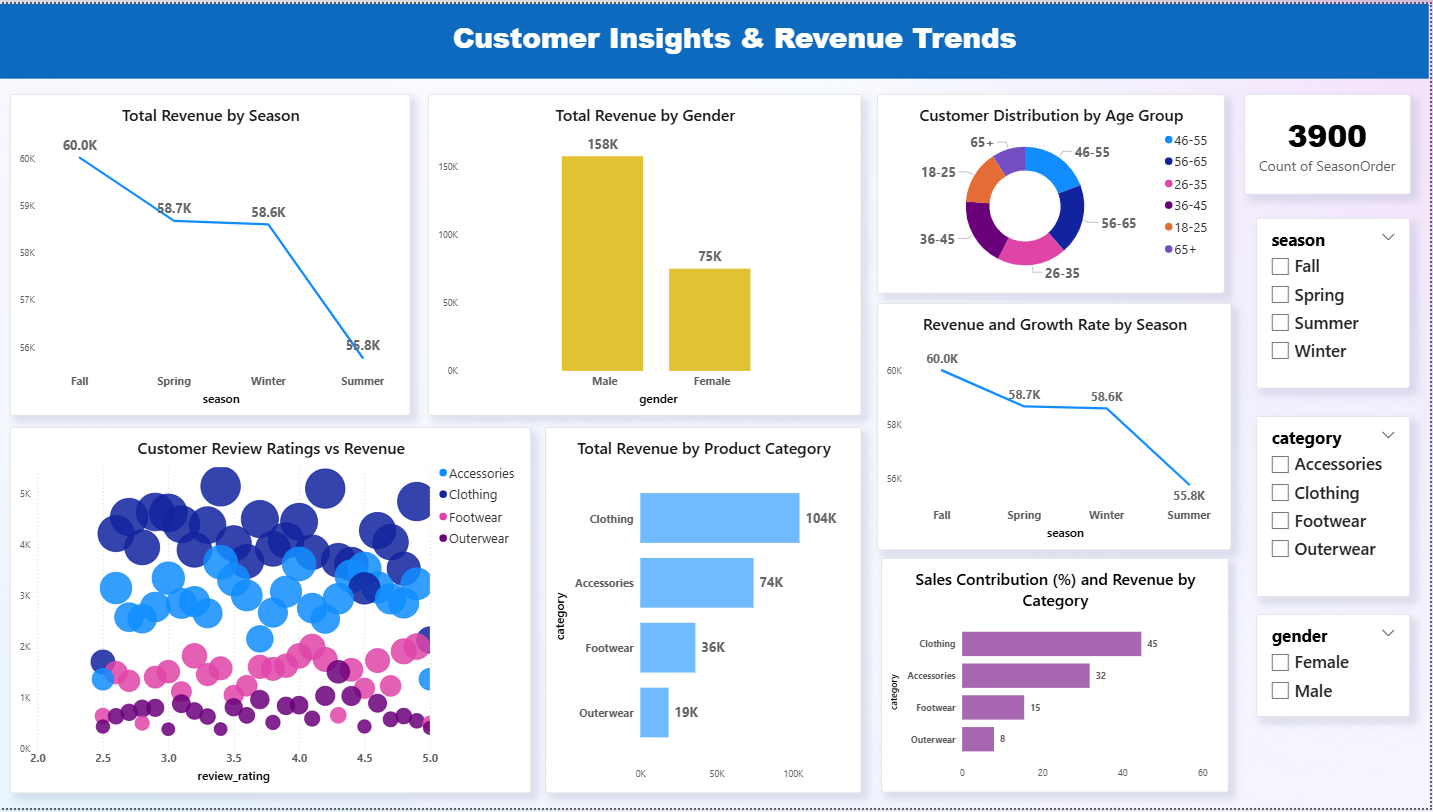

What the dashboard file says about the page in this screenshot:
{"tool":"powerbi","page":{"name":"customer sales & trends","canvas":[1920,1080],"ordinal":1},"visuals":[{"type":"lineChart","title":"Total Revenue by Season","fields":{"Category":["public shopping_data.season"],"Y":["Sum(public shopping_data.purchase_amount_usd)"]},"box":[13.9,120.8,537.5,431.9],"z":0},{"type":"donutChart","title":"Customer Distribution by Age Group","fields":{"Category":["public shopping_data.Age group"],"Y":["CountNonNull(public shopping_data.customer_id)"]},"box":[1177.8,120.8,466.7,268.1],"z":1},{"type":"clusteredColumnChart","title":"Total Revenue by Gender","fields":{"Category":["public shopping_data.gender"],"Y":["Sum(public shopping_data.purchase_amount_usd)"]},"box":[575,120.8,581.9,431.9],"z":2},{"type":"clusteredBarChart","title":"Total Revenue by Product Category","fields":{"Category":["public shopping_data.category"],"Y":["Sum(public shopping_data.purchase_amount_usd)"]},"box":[731.9,568.1,425,491.7],"z":3},{"type":"scatterChart","title":"Customer Review Ratings vs Revenue","fields":{"X":["public shopping_data.review_rating"],"Y":["Sum(public shopping_data.purchase_amount_usd)"],"Series":["public shopping_data.category"],"Size":["Sum(public shopping_data.purchase_amount_usd)"]},"box":[13.9,568.1,700,491.7],"z":4},{"type":"shape","box":[0,0,1919.4,100],"z":5},{"type":"textbox","box":[602.8,13.9,787.5,80.6],"z":6},{"type":"lineChart","title":"Revenue and Growth Rate by Season","fields":{"Category":["public shopping_data.season"],"Y":["Sum(public shopping_data.purchase_amount_usd)"]},"box":[1177.8,401.4,476.4,331.9],"z":8},{"type":"barChart","title":"Sales Contribution (%) and Revenue by Category","fields":{"Category":["public shopping_data.category"],"Y":["public shopping_data.Sales % Contribution"]},"box":[1183.3,744.4,466.7,315.3],"z":9},{"type":"card","fields":{"Values":["CountNonNull(public shopping_data.SeasonOrder)"]},"box":[1670.8,120.8,223.6,134.7],"z":10},{"type":"slicer","fields":{"Values":["public shopping_data.season"]},"box":[1687.5,287.5,206.9,229.2],"z":11},{"type":"slicer","fields":{"Values":["public shopping_data.category"]},"box":[1687.5,552.8,206.9,243.1],"z":12},{"type":"slicer","fields":{"Values":["public shopping_data.gender"]},"box":[1687.5,819.4,206.9,137.5],"z":13}]}

Visuals, with their boxes in screenshot pixels (x1, y1, x2, y2), scaled from the page's 1920x1080 canvas onto the 1433x812 screenshot:
"Total Revenue by Season" lineChart: select_region(10, 91, 412, 416)
"Customer Distribution by Age Group" donutChart: select_region(879, 91, 1227, 292)
"Total Revenue by Gender" clusteredColumnChart: select_region(429, 91, 863, 416)
"Total Revenue by Product Category" clusteredBarChart: select_region(546, 427, 863, 797)
"Customer Review Ratings vs Revenue" scatterChart: select_region(10, 427, 533, 797)
shape: select_region(0, 0, 1432, 75)
textbox: select_region(450, 10, 1038, 71)
"Revenue and Growth Rate by Season" lineChart: select_region(879, 302, 1235, 551)
"Sales Contribution (%) and Revenue by Category" barChart: select_region(883, 560, 1231, 797)
card - CountNonNull(public shopping_data.SeasonOrder): select_region(1247, 91, 1414, 192)
slicer - public shopping_data.season: select_region(1259, 216, 1414, 388)
slicer - public shopping_data.category: select_region(1259, 416, 1414, 598)
slicer - public shopping_data.gender: select_region(1259, 616, 1414, 719)
